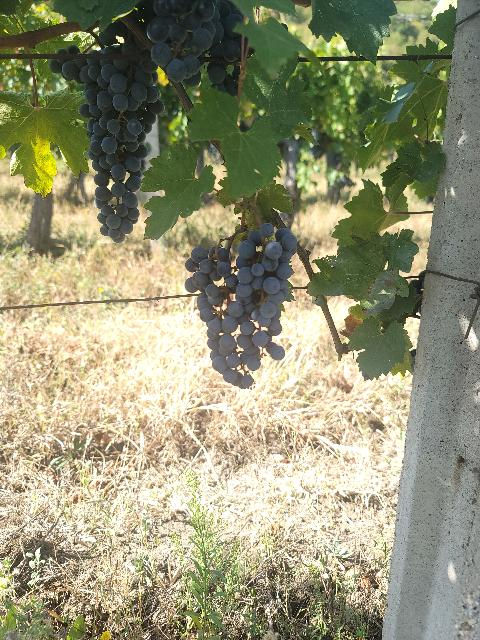grapes: (49, 41, 165, 242), (185, 246, 285, 389), (225, 222, 298, 360)
